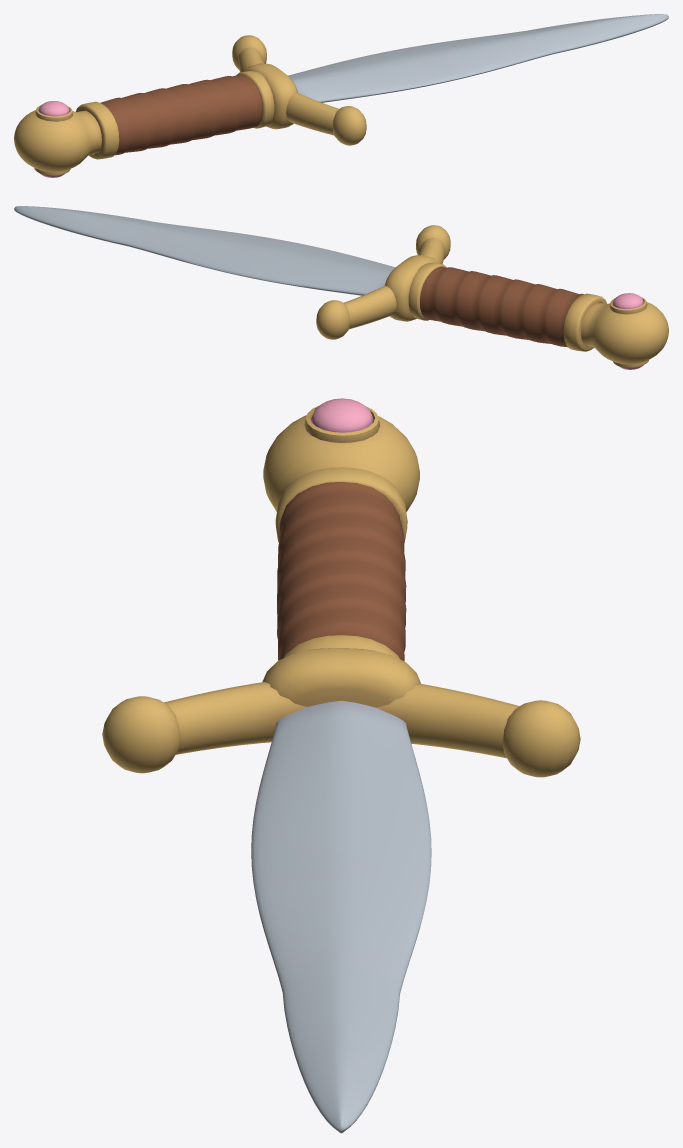
File: dagger.glb
The picture shows the model from 3 angles, top to bottom: view 1: azimuth 30°, elevation 25°; view 2: azimuth 150°, elevation 25°; view 3: azimuth 270°, elevation 25°; orthographic projection. The views are drawn at different scales.
Parts seen in each view (by area): view 1: dagger_body; view 2: dagger_body; view 3: dagger_body.
Part boxes in pixels (x1,y1,x2,y2): dagger_body: (14, 14, 668, 177); dagger_body: (14, 206, 668, 369); dagger_body: (102, 398, 580, 1133).
Bounding box in the file's own units: 0.3527 × 0.0373 × 0.1125.
Materials: 1 (1 with a texture image).
